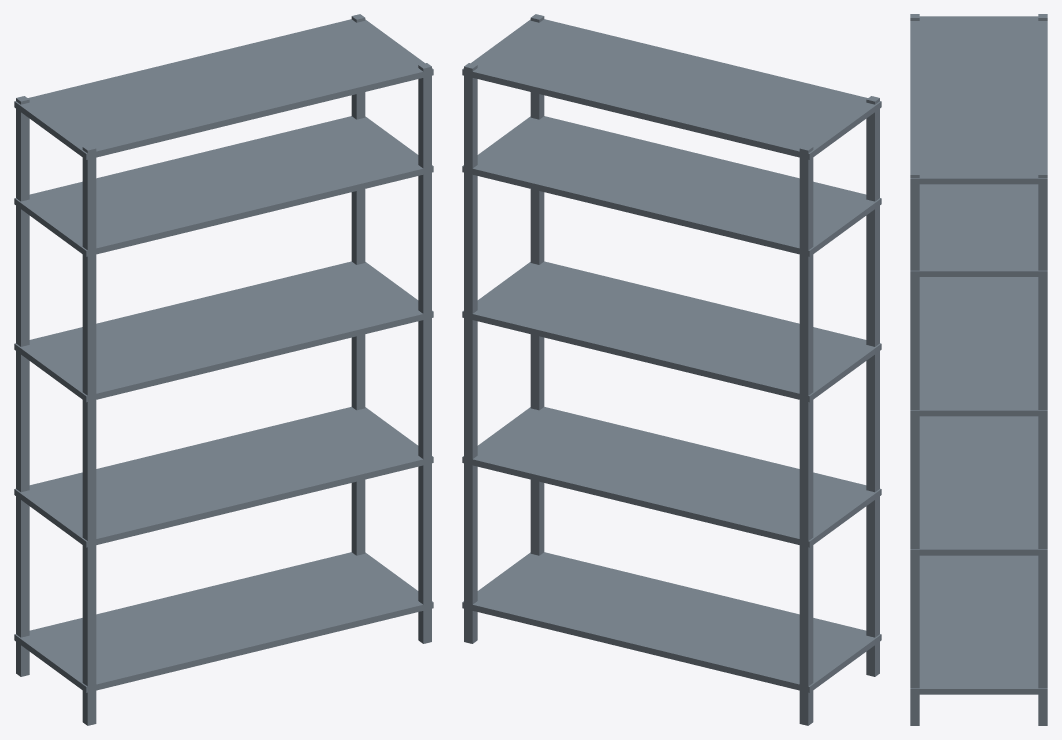
The model's file is shelf.glb.
The picture shows the model from 3 angles, left to right: view 1: azimuth 30°, elevation 25°; view 2: azimuth 150°, elevation 25°; view 3: azimuth 270°, elevation 25°; orthographic projection. The views are drawn at different scales.
Visible parts, largest first — view 1: shelf; view 2: shelf; view 3: shelf.
Boxes of the visible parts, x1,y1,x2,y2 form: shelf: [14, 14, 433, 725]; shelf: [462, 14, 881, 725]; shelf: [910, 14, 1047, 725].
Bounding box in the file's own units: 1.2 × 1.9 × 0.43.
